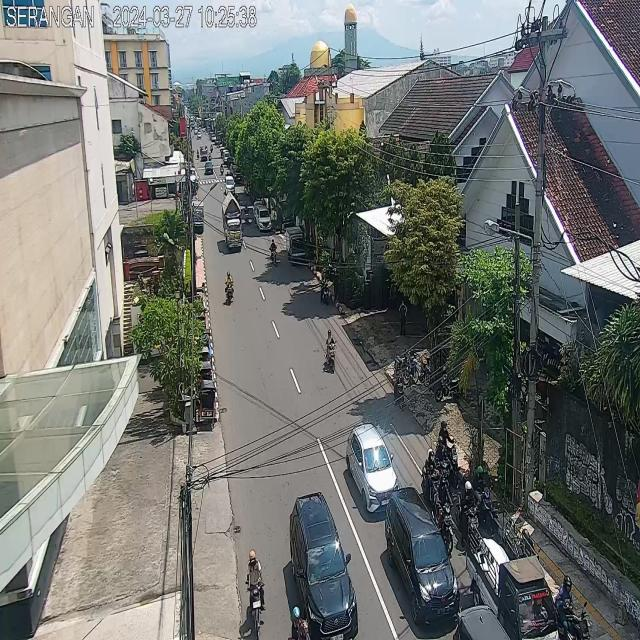car: (290, 487, 358, 640), (385, 489, 460, 624), (346, 419, 398, 514), (454, 603, 511, 640), (257, 206, 271, 232), (253, 200, 264, 223), (224, 176, 235, 194), (204, 162, 213, 175), (202, 150, 208, 162)
motorcycle: (550, 573, 592, 640), (244, 549, 266, 640), (471, 463, 495, 536), (433, 476, 455, 553), (458, 480, 479, 550), (438, 417, 458, 488), (433, 434, 451, 501), (421, 449, 441, 506), (288, 605, 310, 640), (324, 328, 336, 374), (320, 271, 330, 306), (225, 270, 234, 306), (270, 238, 279, 268), (243, 201, 250, 225), (233, 193, 240, 205), (220, 163, 224, 175), (196, 148, 200, 160), (208, 151, 212, 162), (205, 144, 208, 154), (210, 143, 213, 152)
truck: (465, 512, 559, 640), (222, 192, 242, 253), (286, 227, 304, 266)
